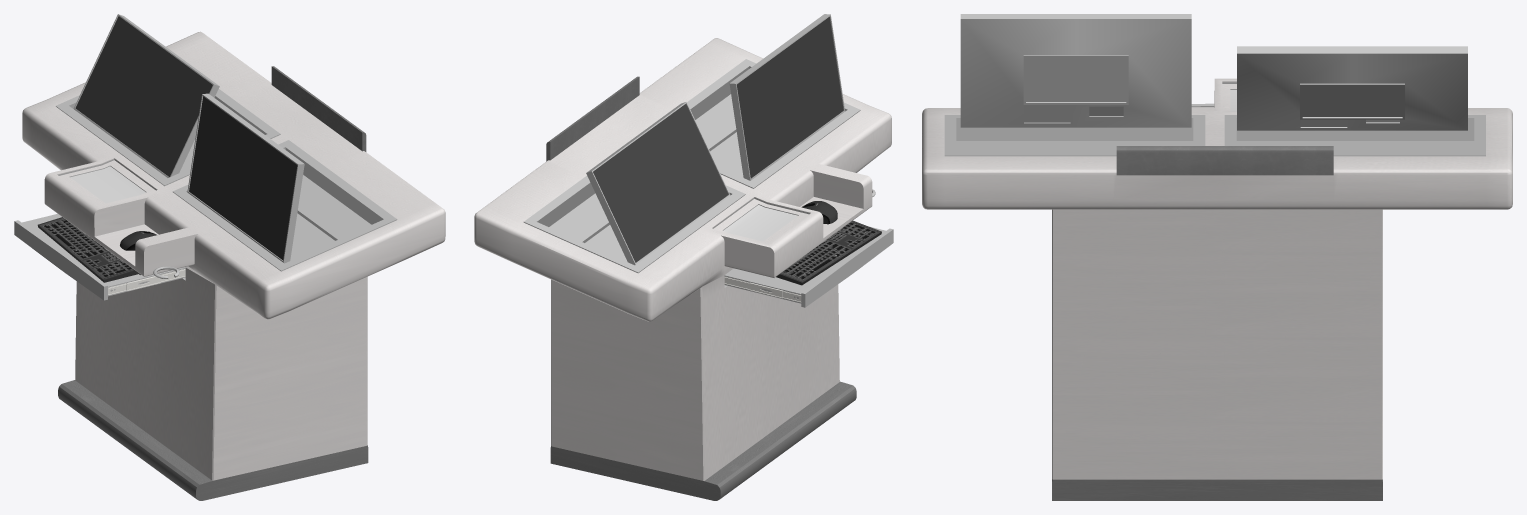
The model's file is 317 교수책상.fbx.
The picture shows the model from 3 angles, left to right: view 1: azimuth 30°, elevation 25°; view 2: azimuth 150°, elevation 25°; view 3: azimuth 270°, elevation 25°; orthographic projection. The views are drawn at different scales.
Visible parts, largest first — view 1: 교수 책상; view 2: 교수 책상; view 3: 교수 책상.
Part boxes in pixels (x1,y1,x2,y2): 교수 책상: (14, 14, 445, 500); 교수 책상: (474, 14, 893, 500); 교수 책상: (922, 14, 1512, 500).
Bounding box in the file's own units: 161 × 207 × 262.
